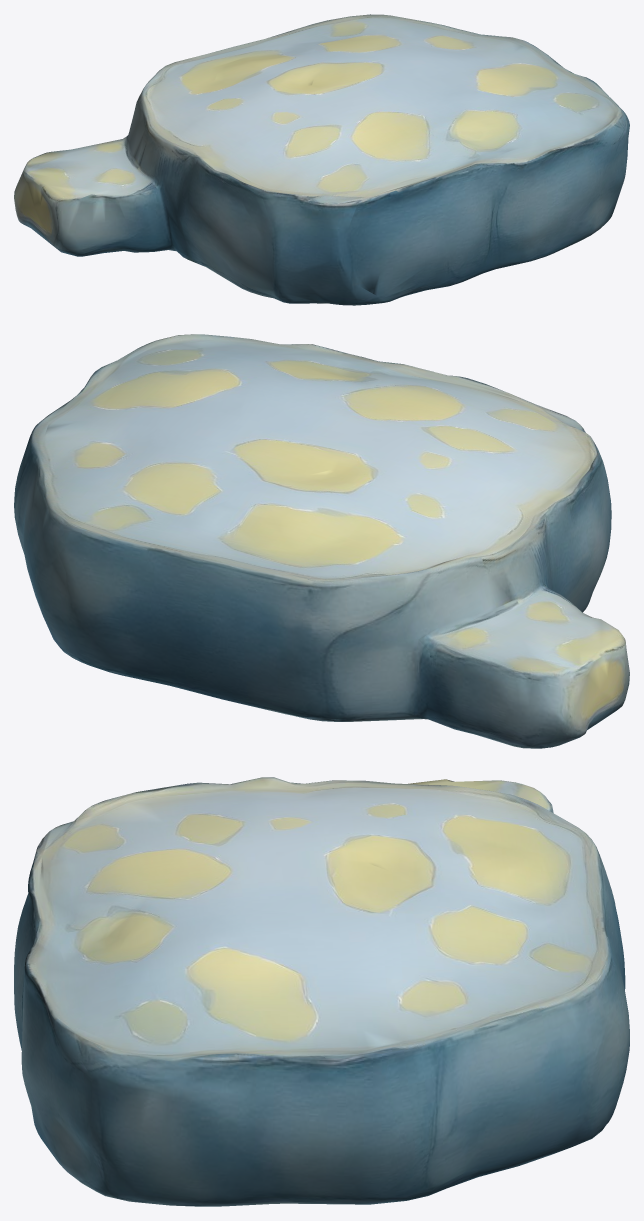
3 renders of one model, top to bottom at view 1: azimuth 30°, elevation 25°; view 2: azimuth 150°, elevation 25°; view 3: azimuth 270°, elevation 25°, orthographic. The views are drawn at different scales.
Parts seen in each view (by area): view 1: node_0; view 2: node_0; view 3: node_0.
Part boxes in pixels (x1=…): node_0: x1=14, y1=14, x2=629, y2=305; node_0: x1=14, y1=334, x2=629, y2=748; node_0: x1=14, y1=777, x2=629, y2=1206.
Size of the model in its own units: 30.52 by 7.71 by 22.38.
1 material, 1 textured.
